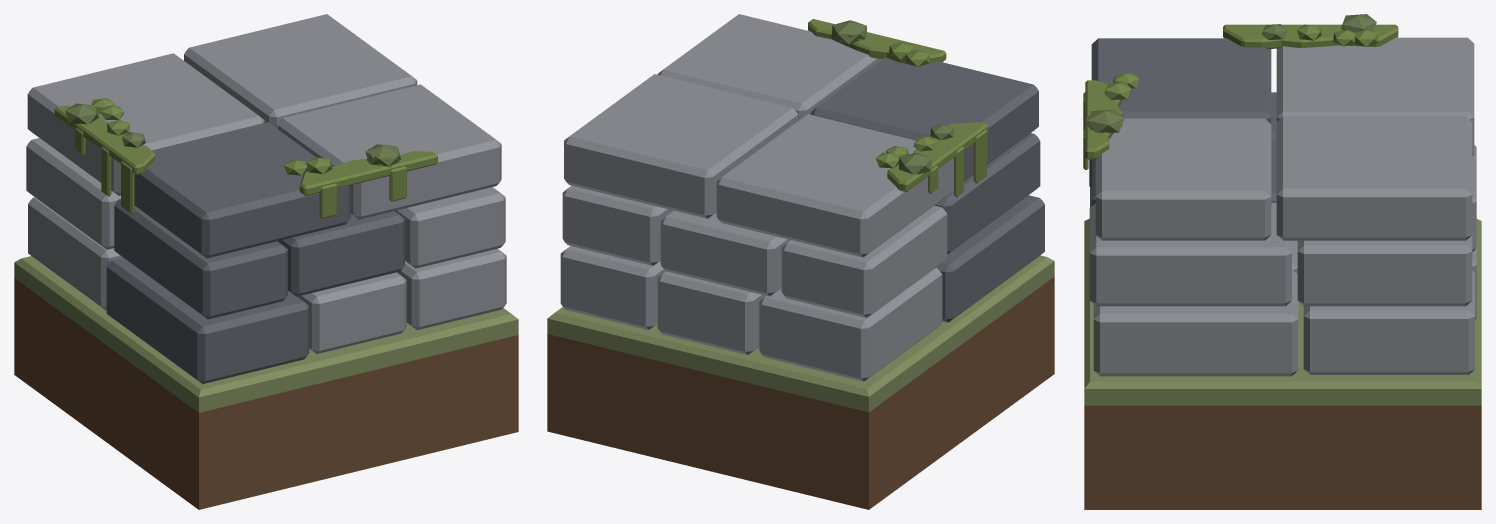
Rendered from Wall A.fbx.
3 views of the same model, side by side, from view 1: azimuth 30°, elevation 25°; view 2: azimuth 150°, elevation 25°; view 3: azimuth 270°, elevation 25° (orthographic). The views are drawn at different scales.
Visible parts, largest first — view 1: Wall A; view 2: Wall A; view 3: Wall A.
Part boxes in pixels (bbox=[...]): Wall A: bbox=[14, 14, 518, 509]; Wall A: bbox=[547, 14, 1054, 509]; Wall A: bbox=[1083, 14, 1481, 509].
Size of the model in its own units: 1.01 by 0.9252 by 1.
